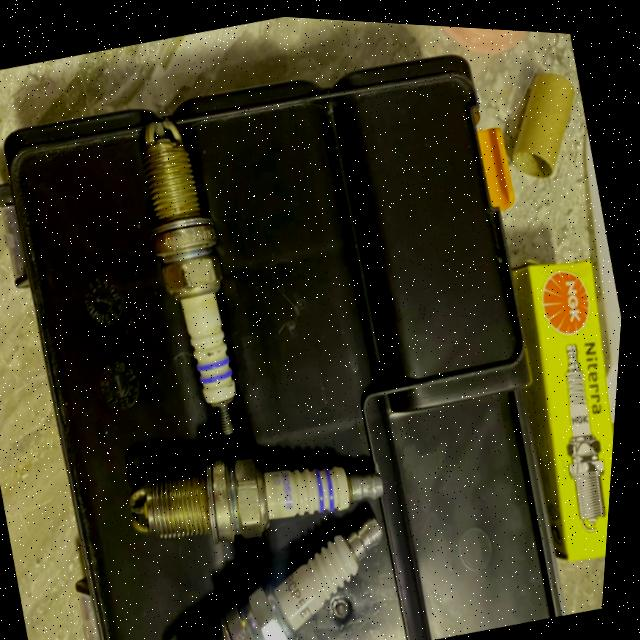spark-plug: (115, 81, 305, 455), (118, 414, 403, 571), (150, 498, 426, 640)
